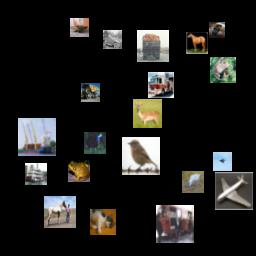airplane: (215, 172, 253, 210), (213, 152, 232, 171)
automobile: (103, 30, 122, 49)
bird: (122, 137, 160, 175), (84, 132, 106, 154)
cat: (90, 209, 116, 235)
deer: (133, 99, 162, 128), (182, 171, 204, 193)
dog: (70, 18, 89, 37), (209, 22, 225, 38)
frog: (210, 57, 236, 83), (68, 160, 90, 182)
ship: (18, 118, 56, 156), (25, 163, 47, 185)
truck: (156, 205, 194, 243), (137, 30, 169, 62), (148, 72, 174, 98), (81, 83, 100, 102)
